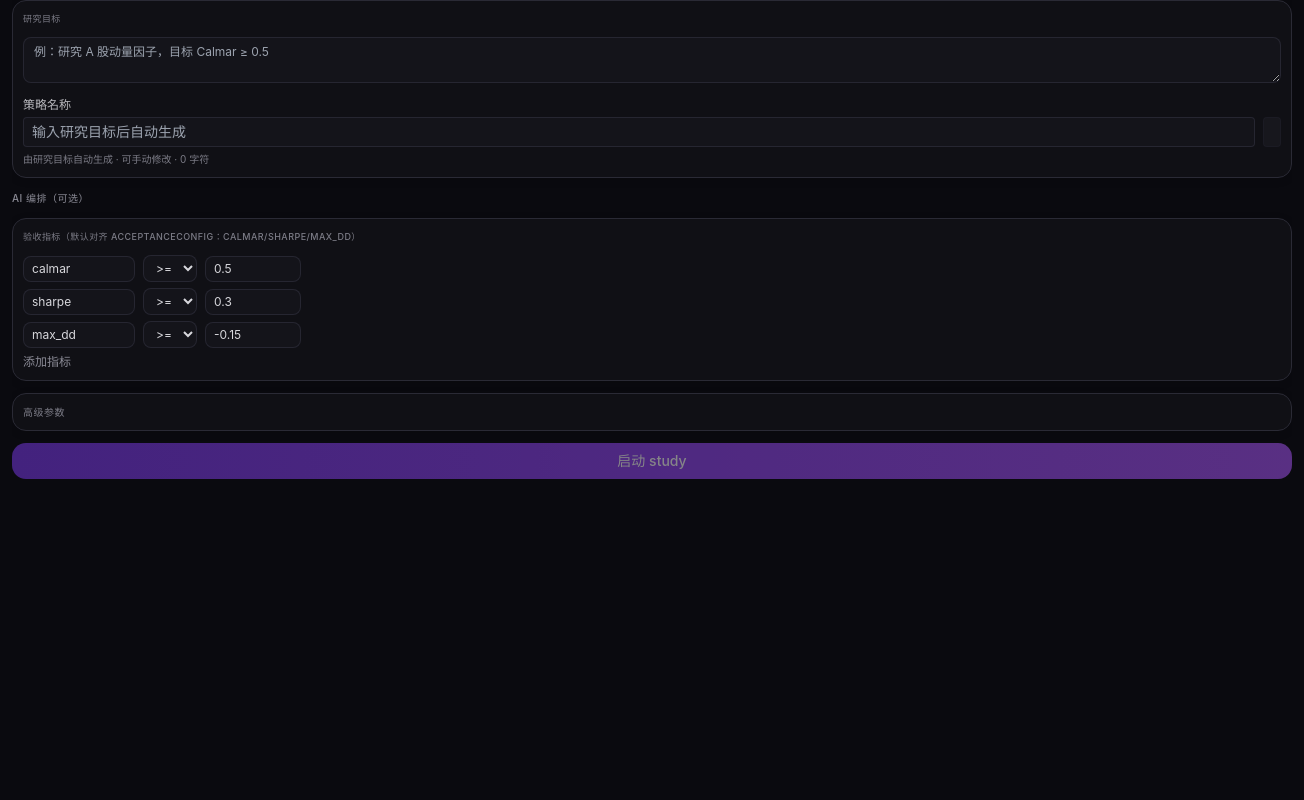
StudyCreatePanel › collapses and expands advanced params
The width and height of the screenshot is (1304, 800).
Expected: the text "验收指标（默认对齐 AcceptanceConfig：calmar/sharpe/max_dd）" is shown, [23, 231, 361, 242]
Step 1. Click the button "高级参数" → (44, 412), box [13, 394, 1291, 430]
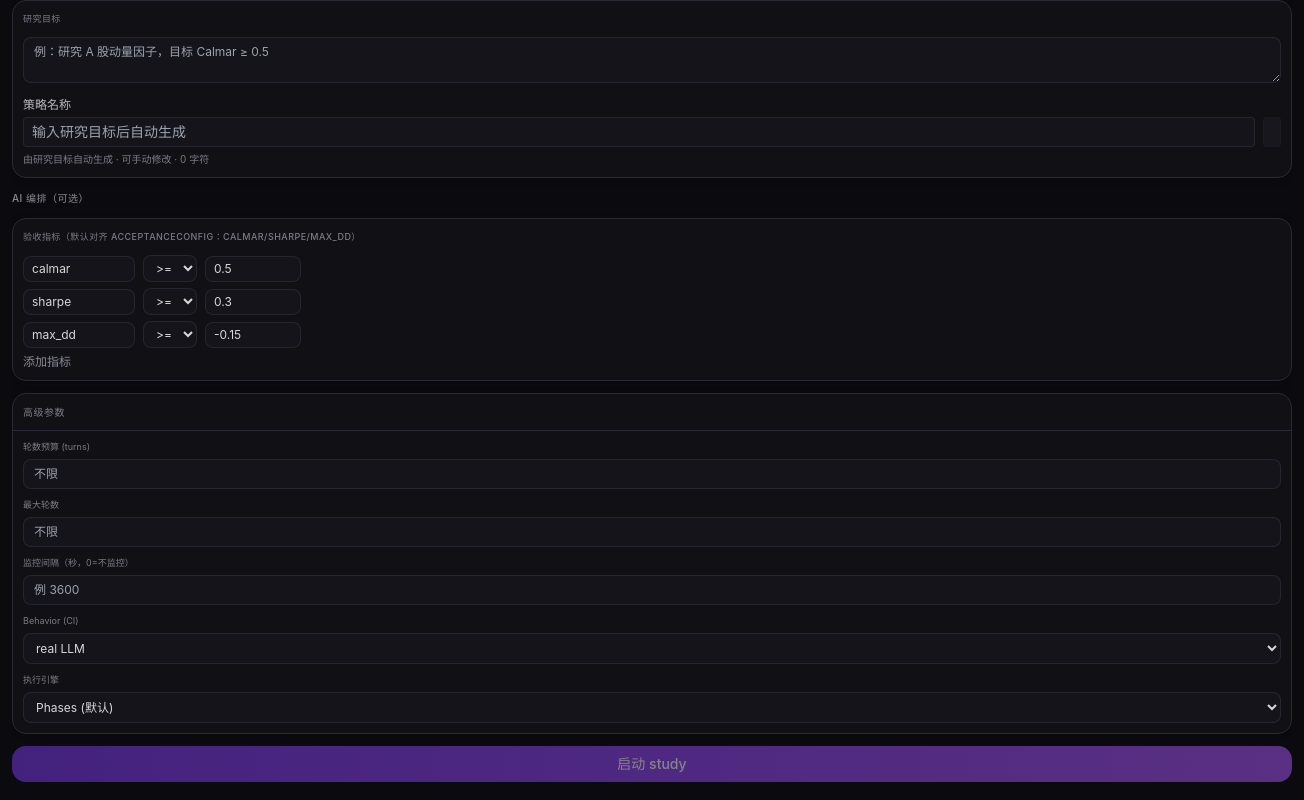
Expected: the text "轮数预算 (turns)" is shown, [23, 441, 90, 452]
